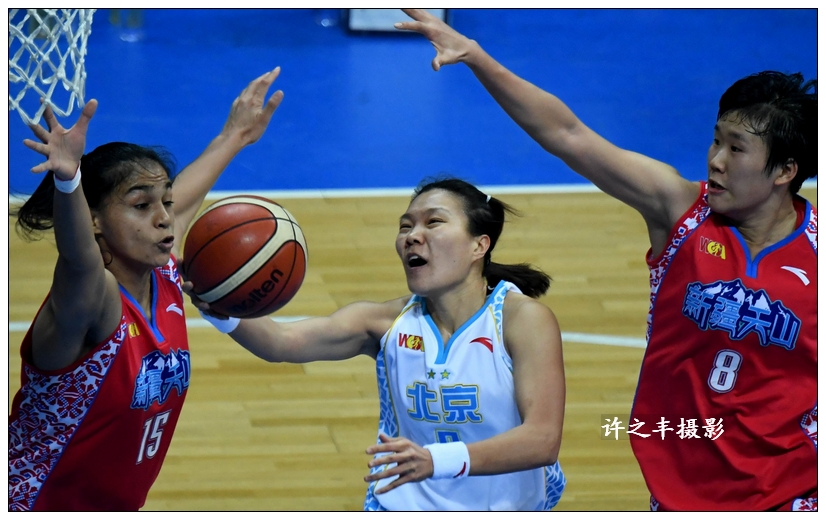ball: (184, 195, 309, 319)
